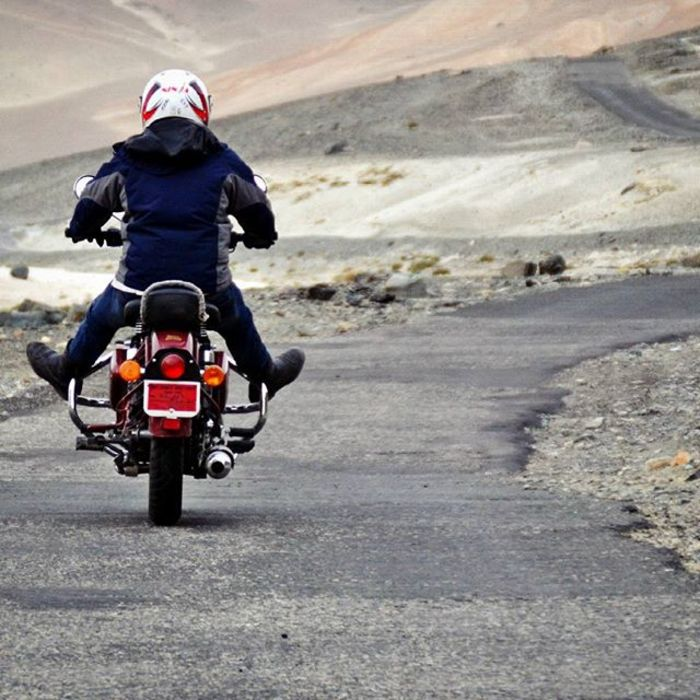h: (139, 66, 213, 130)
